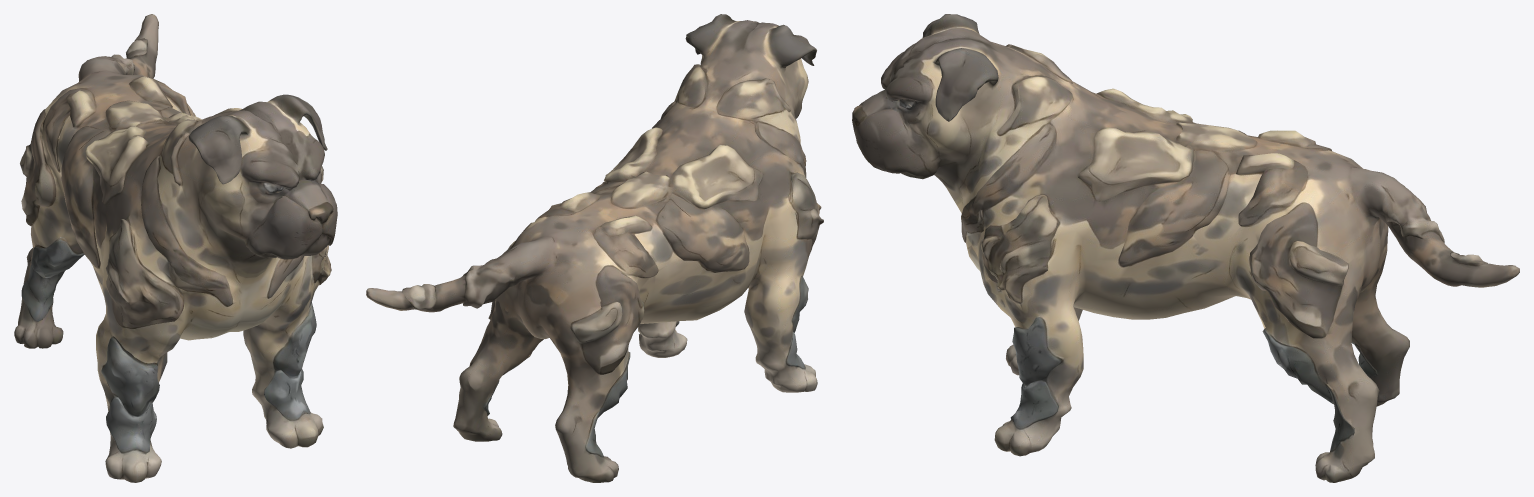
3 renders of one model, left to right at view 1: azimuth 30°, elevation 25°; view 2: azimuth 150°, elevation 25°; view 3: azimuth 270°, elevation 25°, orthographic. The views are drawn at different scales.
Parts seen in each view (by area): view 1: geometry_0; view 2: geometry_0; view 3: geometry_0.
Part boxes in pixels (x1,y1,x2,y2): geometry_0: (14,14,337,482); geometry_0: (366,14,823,482); geometry_0: (852,14,1519,482).
Bounding box in the file's own units: 0.4771 × 0.5996 × 0.9502.
1 material, 1 textured.
